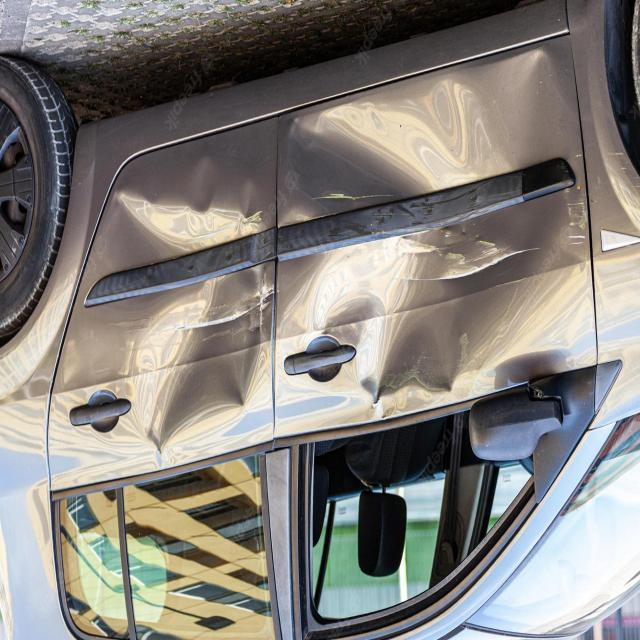dent: (114, 44, 568, 472)
